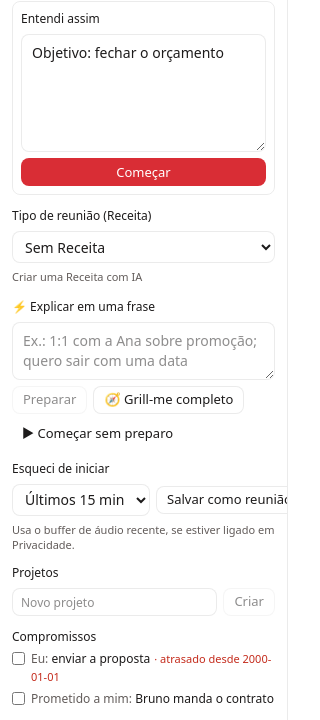
Test: meeting panel › open commitments show who owes what and what is overdue, and can be checked off
(page scrolled)
Expected: the text "Eu: enviar a proposta· atrasado desde 2000-01-01" is shown, [31, 650, 275, 686]
Expected: the text "· atrasado desde 2000-01-01" is shown, [31, 651, 271, 684]
What coordinates should you click on to do the following:
click the checkbox labelled "Eu: enviar a proposta· atrasado desde 2000-01-01"
I would click on:
 (18, 659)
Its box is [12, 652, 25, 665].
(page scrolled)
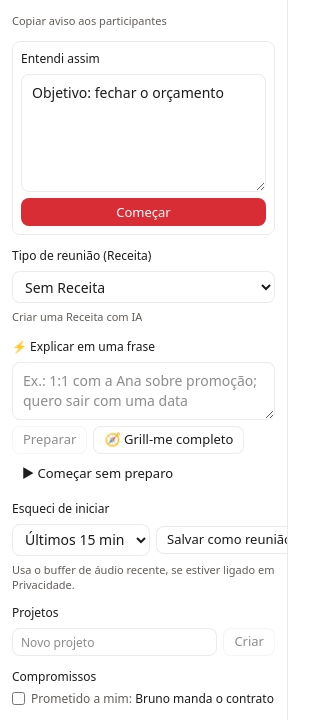
Expected: the text "enviar a proposta" is gone
